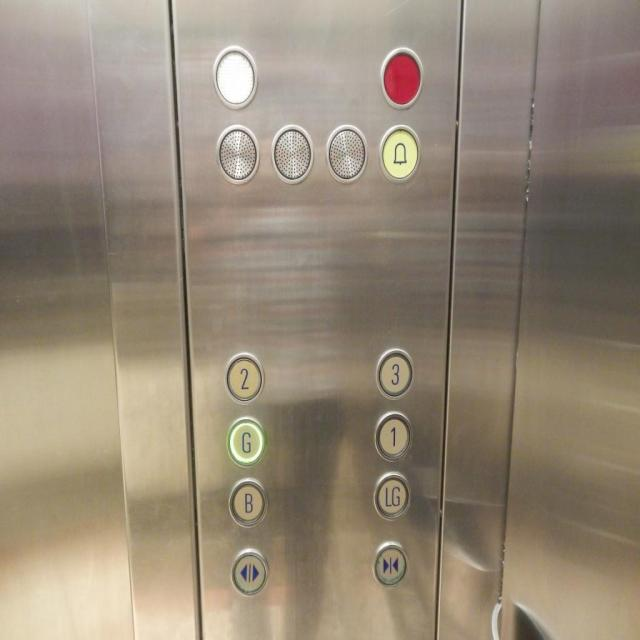1: (372, 407, 413, 462)
2: (222, 348, 266, 404)
3: (374, 344, 415, 400)
B: (227, 473, 268, 529)
G: (224, 412, 266, 468)
LG: (370, 469, 410, 523)
alarm: (377, 121, 422, 183)
close: (370, 536, 410, 589)
empty: (211, 43, 259, 109), (377, 42, 424, 108)
open: (229, 544, 269, 598)
speaker: (322, 120, 368, 182), (268, 122, 314, 184), (214, 122, 260, 184)
